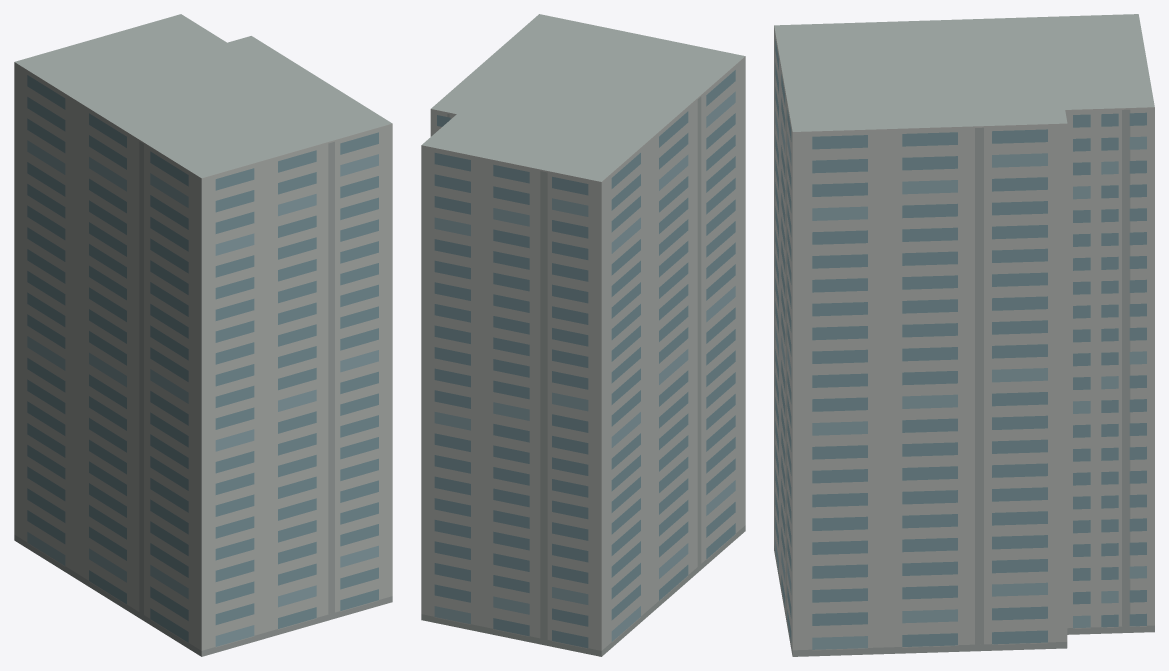
Rendered from residential-f06bcf89-bba9-478a-85f8-f54d5a405cb2.glb.
3 renders of one model, left to right at view 1: azimuth 30°, elevation 25°; view 2: azimuth 150°, elevation 25°; view 3: azimuth 270°, elevation 25°, orthographic. The views are drawn at different scales.
Parts seen in each view (by area): view 1: residential-f06bcf89-bba9-478a-85f8-f54d5a405cb2.tmp; view 2: residential-f06bcf89-bba9-478a-85f8-f54d5a405cb2.tmp; view 3: residential-f06bcf89-bba9-478a-85f8-f54d5a405cb2.tmp.
Boxes of the visible parts, left/top/right/bottom form: residential-f06bcf89-bba9-478a-85f8-f54d5a405cb2.tmp: left=14, top=14, right=392, bottom=656; residential-f06bcf89-bba9-478a-85f8-f54d5a405cb2.tmp: left=421, top=14, right=745, bottom=656; residential-f06bcf89-bba9-478a-85f8-f54d5a405cb2.tmp: left=774, top=14, right=1154, bottom=656.
Size of the model in its own units: 38.12 by 79 by 51.95.
